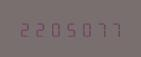five: (62, 20, 76, 37)
seven: (92, 20, 106, 37), (107, 20, 121, 37)
two: (17, 20, 31, 37), (32, 20, 46, 37)
zero: (47, 20, 61, 37), (77, 20, 91, 37)
